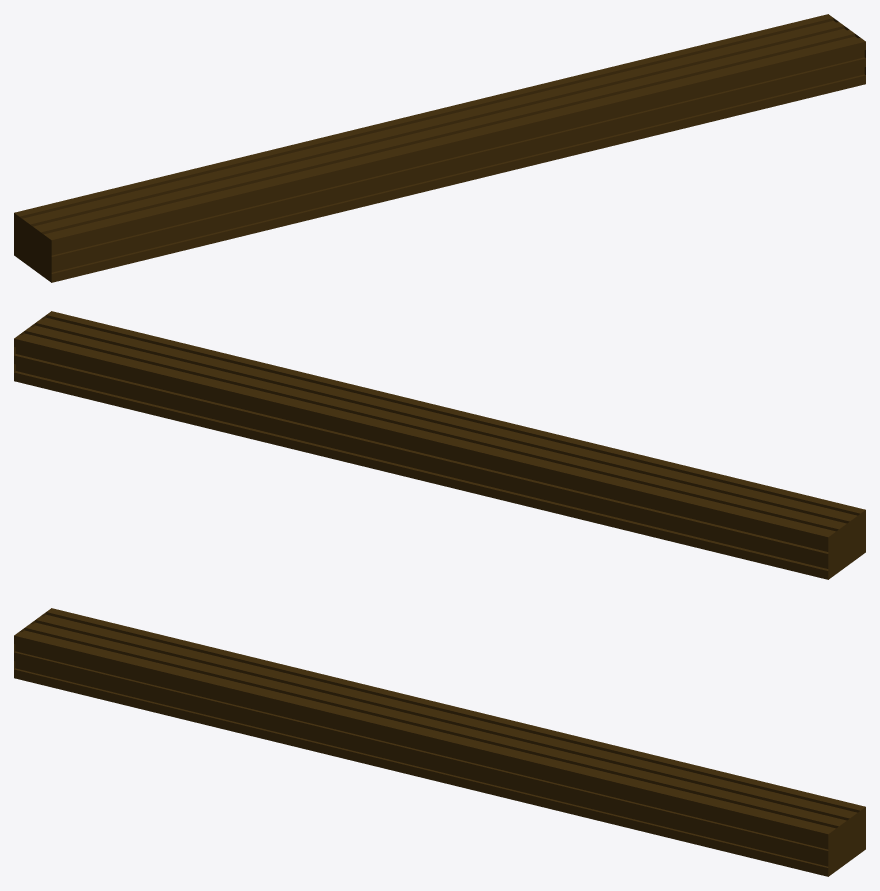
Rendered from Arch_Roof_beam.fbx.
3 renders of one model, top to bottom at view 1: azimuth 30°, elevation 25°; view 2: azimuth 150°, elevation 25°; view 3: azimuth 330°, elevation 25°, orthographic.
Visible parts, largest first — view 1: Cube; view 2: Cube; view 3: Cube.
Part boxes in pixels (box(x1,y1,x2,y2)): Cube: box(14, 14, 865, 282); Cube: box(14, 311, 865, 579); Cube: box(14, 608, 865, 876).
Size of the model in its own units: 500 by 25 by 40.
